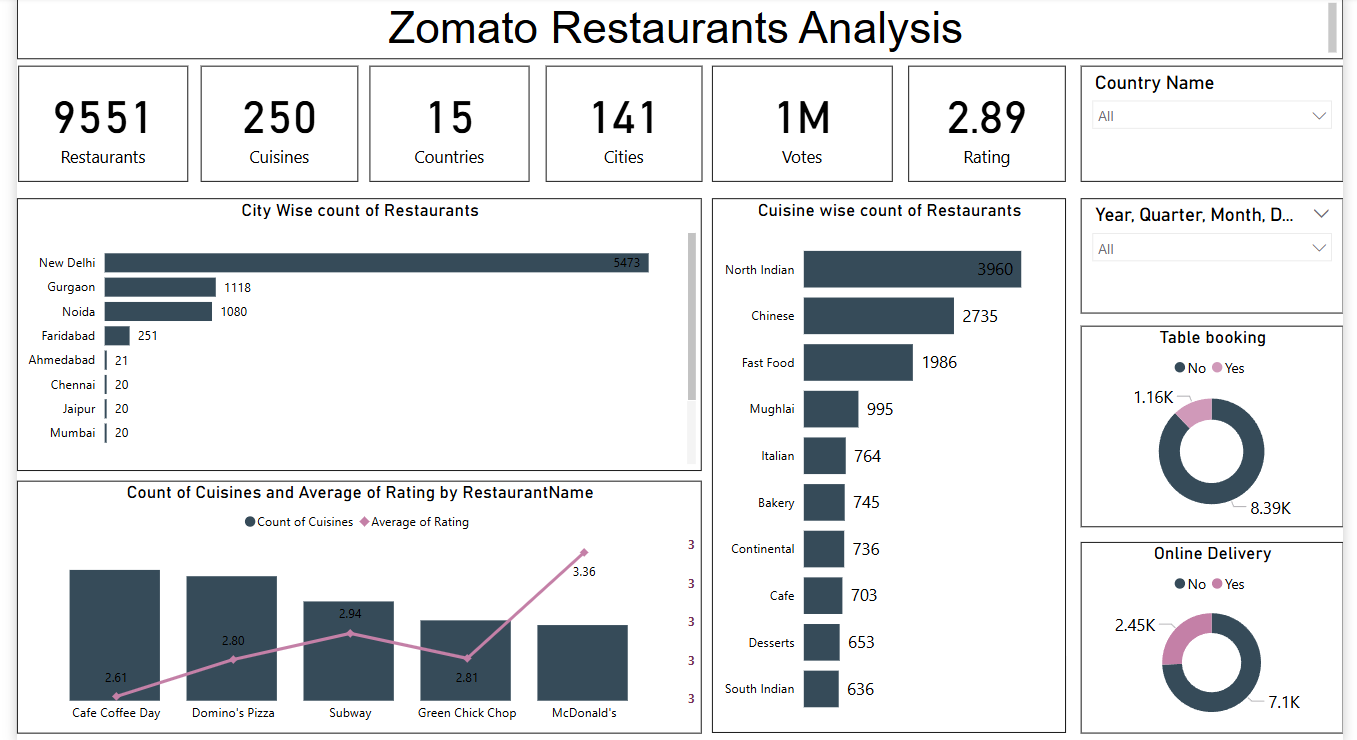

Layout of this report page (visuals, bound fields, positions):
{"tool":"powerbi","page":{"name":"Dashboard","canvas":[1280,720],"ordinal":0},"visuals":[{"type":"slicer","fields":{"Values":["Sheet2.country name"]},"box":[1026.7,66.4,253.4,112.2],"z":0},{"type":"card","fields":{"Values":["CountNonNull(Sheet2.countryID)"]},"box":[340.7,66.3,154.7,111.6],"z":2000},{"type":"card","fields":{"Values":["Count(Sheet1.Cuisines)"]},"box":[176.7,66.3,152.3,111.6],"z":3000},{"type":"card","fields":{"Values":["Count(Sheet1.RestaurantID)"]},"box":[1.2,66.3,164,111.6],"z":4000},{"type":"card","fields":{"Values":["Count(Sheet1.City)"]},"box":[510.5,66.3,151.2,111.6],"z":5000},{"type":"textbox","box":[0,0,1280,60.3],"z":6000},{"type":"donutChart","title":"Table booking ","fields":{"Category":["cuisines copy.Has_Table_booking"],"Y":["CountNonNull(cuisines copy.Has_Table_booking)"]},"box":[1026.7,317.3,253.4,194.2],"z":7000},{"type":"donutChart","title":"Online Delivery","fields":{"Category":["cuisines copy.Has_Online_delivery"],"Y":["CountNonNull(cuisines copy.Has_Online_delivery)"]},"box":[1026.7,526,253.4,184.6],"z":8000},{"type":"clusteredBarChart","title":"Cuisine wise count of Restaurants","fields":{"Category":["Sheet1.Column"],"Y":["CountNonNull(Sheet1.Cuisines)"]},"box":[670.8,194.2,341.4,516.4],"z":9000},{"type":"clusteredBarChart","title":"City Wise count of Restaurants","fields":{"Category":["cuisines copy.City"],"Y":["CountNonNull(cuisines copy.RestaurantID)"]},"box":[0,194.2,661.1,263],"z":10000},{"type":"lineStackedColumnComboChart","fields":{"Category":["cuisines copy.RestaurantName"],"Y":["CountNonNull(cuisines copy.Cuisines)"],"Y2":["Avg(cuisines copy.Rating)"]},"box":[0,466.9,661.1,243.7],"z":11000},{"type":"slicer","title":"Select Year","fields":{"Values":["cuisines copy.new datekey.Variation.Date Hierarchy.Year","cuisines copy.new datekey.Variation.Date Hierarchy.Quarter","cuisines copy.new datekey.Variation.Date Hierarchy.Month","cuisines copy.new datekey.Variation.Date Hierarchy.Day"]},"box":[1026.7,194.2,253.4,111],"z":13000},{"type":"card","fields":{"Values":["Sum(cuisines copy.Votes)"]},"box":[670.9,66.3,174.4,111.6],"z":14000},{"type":"card","fields":{"Values":["Avg(cuisines copy.Rating)"]},"box":[860.5,66.3,152.3,111.6],"z":15000}]}

Visuals, with their boxes on the page's 1280x720 design canvas (x1, y1, x2, y2). These are canvas units, not pixel positions in the 1357x740 screenshot, which may show the page scaled, cropped or inside an application window:
slicer - Sheet2.country name: {"x1": 1027, "y1": 66, "x2": 1280, "y2": 179}
card - CountNonNull(Sheet2.countryID): {"x1": 341, "y1": 66, "x2": 495, "y2": 178}
card - Count(Sheet1.Cuisines): {"x1": 177, "y1": 66, "x2": 329, "y2": 178}
card - Count(Sheet1.RestaurantID): {"x1": 1, "y1": 66, "x2": 165, "y2": 178}
card - Count(Sheet1.City): {"x1": 510, "y1": 66, "x2": 662, "y2": 178}
textbox: {"x1": 0, "y1": 0, "x2": 1280, "y2": 60}
"Table booking " donutChart: {"x1": 1027, "y1": 317, "x2": 1280, "y2": 512}
"Online Delivery" donutChart: {"x1": 1027, "y1": 526, "x2": 1280, "y2": 711}
"Cuisine wise count of Restaurants" clusteredBarChart: {"x1": 671, "y1": 194, "x2": 1012, "y2": 711}
"City Wise count of Restaurants" clusteredBarChart: {"x1": 0, "y1": 194, "x2": 661, "y2": 457}
lineStackedColumnComboChart - cuisines copy.RestaurantName x CountNonNull(cuisines copy.Cuisines): {"x1": 0, "y1": 467, "x2": 661, "y2": 711}
"Select Year" slicer: {"x1": 1027, "y1": 194, "x2": 1280, "y2": 305}
card - Sum(cuisines copy.Votes): {"x1": 671, "y1": 66, "x2": 845, "y2": 178}
card - Avg(cuisines copy.Rating): {"x1": 860, "y1": 66, "x2": 1013, "y2": 178}
